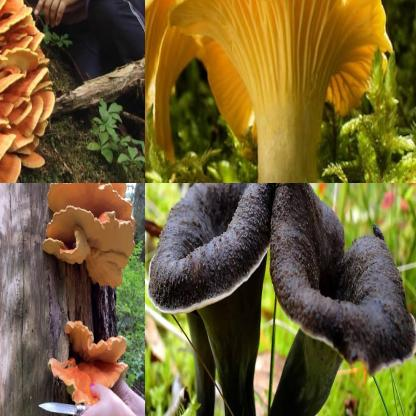CoW: (0, 0, 58, 183), (40, 183, 136, 289), (46, 318, 130, 408)
chanterelle: (169, 0, 396, 183), (270, 183, 416, 416), (145, 183, 288, 416), (145, 0, 214, 180)
